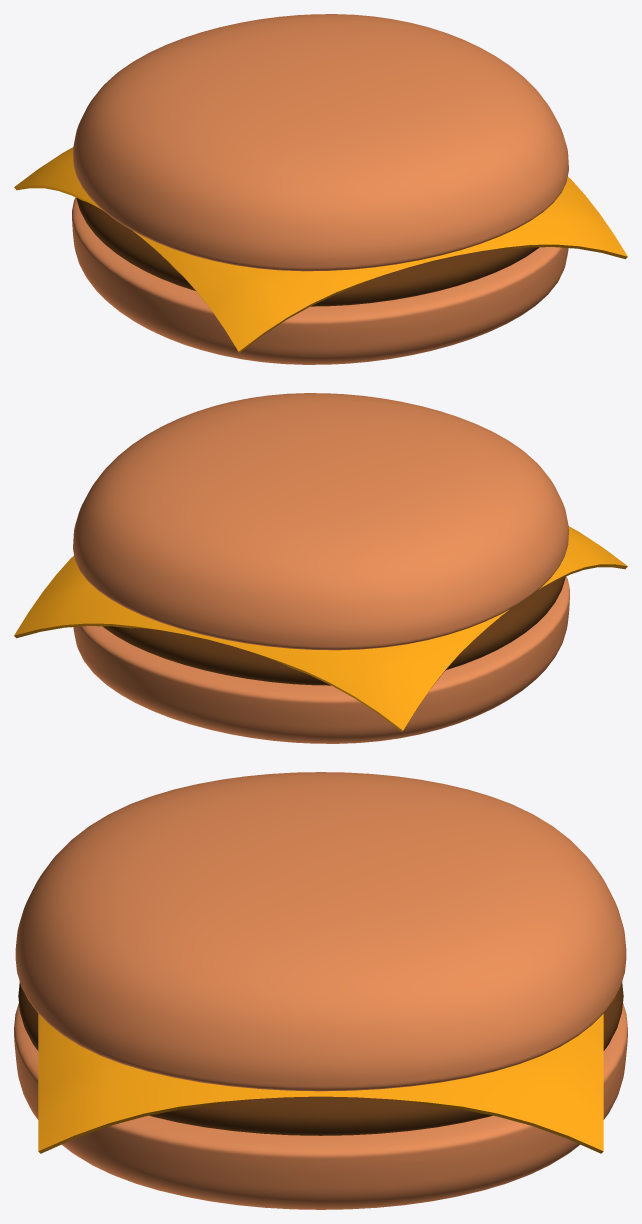
The model's file is hamburger.glb.
The picture shows the model from 3 angles, top to bottom: view 1: azimuth 30°, elevation 25°; view 2: azimuth 150°, elevation 25°; view 3: azimuth 270°, elevation 25°; orthographic projection. The views are drawn at different scales.
Parts seen in each view (by area): view 1: Cube.002, Cube, Plane, Cube.001; view 2: Cube.002, Cube, Plane, Cube.001; view 3: Cube.002, Cube, Plane, Cube.001.
Part boxes in pixels (x1,y1,x2,y2): Cube.002: (73,14,568,271); Cube: (72,197,568,364); Plane: (14,147,627,352); Cube.001: (76,198,539,306); Cube.002: (73,393,568,650); Cube: (73,576,569,743); Plane: (14,526,627,731); Cube.001: (102,577,565,685); Cube.002: (15,772,626,1091); Cube: (14,1003,627,1209); Plane: (38,1014,603,1153); Cube.001: (18,982,623,1135).
Size of the model in its own units: 9.03 by 4.45 by 9.03.
